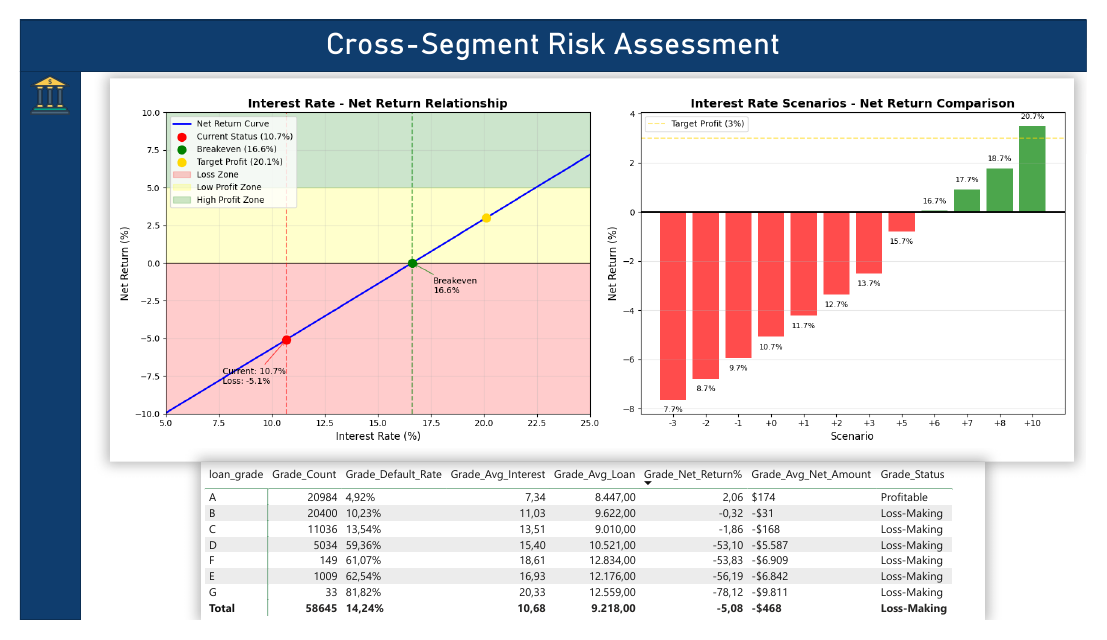

What the dashboard file says about the page in this screenshot:
{"tool":"powerbi","page":{"name":"Net Return X Interest Rate","canvas":[1280,720],"ordinal":4},"visuals":[{"type":"pivotTable","fields":{"Values":["sheet1.Grade_Count","sheet1.Grade_Default_Rate","sheet1.Grade_Avg_Interest","sheet1.Grade_Avg_Loan","sheet1.Grade_Net_Return","sheet1.Grade_Net_Amount","sheet1.Grade_Status"],"Rows":["sheet1.loan_grade"]},"box":[217,530,941,190],"z":0},{"type":"image","box":[108,70,1157,460],"z":1000},{"type":"shape","box":[0,0,1280,62.2],"z":2000},{"type":"card","fields":{"Values":["sheet1.Heading4"]},"box":[154.4,8.9,971.1,53.3],"z":3000},{"type":"shape","box":[0,62,73,658],"z":4000},{"type":"image","box":[0,62,73,57],"z":5000}]}

Visuals, with their boxes in screenshot pixels (x1, y1, x2, y2), scaled from the page's 1280x720 canvas onto the 1107x640 screenshot:
pivotTable - sheet1.Grade_Count x sheet1.Grade_Default_Rate: bbox=(188, 471, 1001, 639)
image: bbox=(93, 62, 1094, 471)
shape: bbox=(0, 0, 1106, 55)
card - sheet1.Heading4: bbox=(134, 8, 973, 55)
shape: bbox=(0, 55, 63, 639)
image: bbox=(0, 55, 63, 106)
